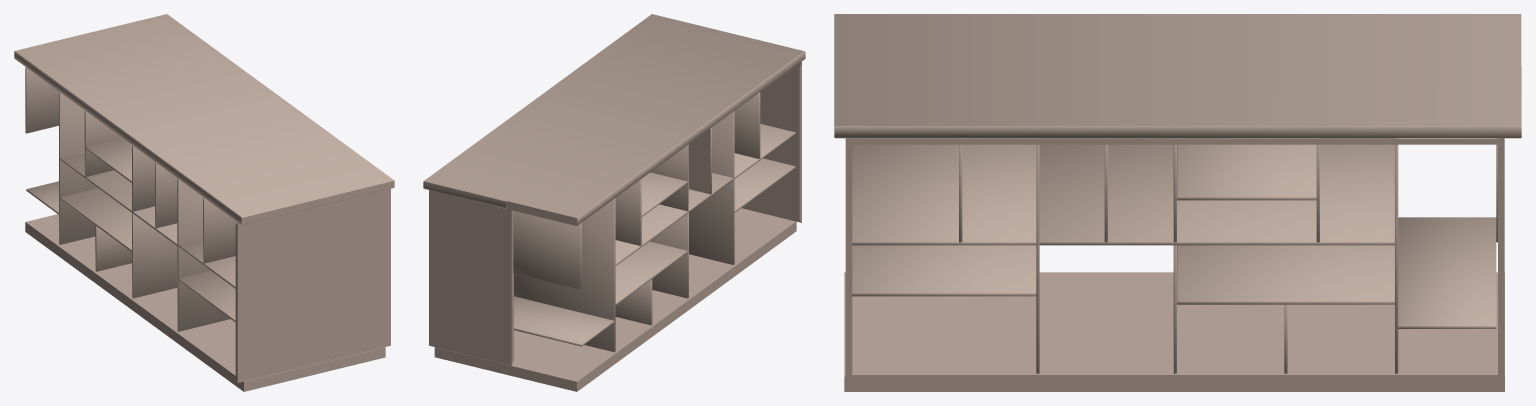
The model's file is Bed_Cabinet.fbx.
3 renders of one model, left to right at view 1: azimuth 30°, elevation 25°; view 2: azimuth 150°, elevation 25°; view 3: azimuth 270°, elevation 25°, orthographic. The views are drawn at different scales.
Visible parts, largest first — view 1: Bed_Cabinet; view 2: Bed_Cabinet; view 3: Bed_Cabinet.
Boxes of the visible parts, bbox=[...] form: Bed_Cabinet: bbox=[14, 14, 394, 391]; Bed_Cabinet: bbox=[423, 14, 805, 391]; Bed_Cabinet: bbox=[834, 14, 1521, 391].
Bounding box in the file's own units: 80 × 89 × 206.
